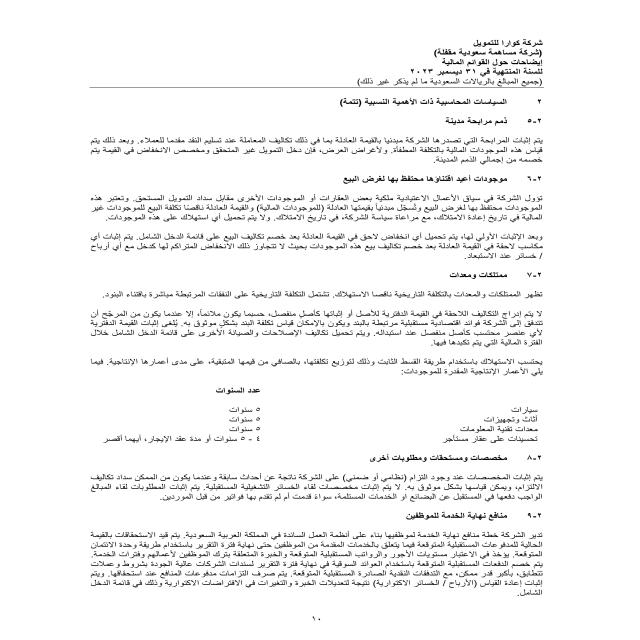notes: (440, 57, 552, 68)
text: (52, 95, 554, 608)
